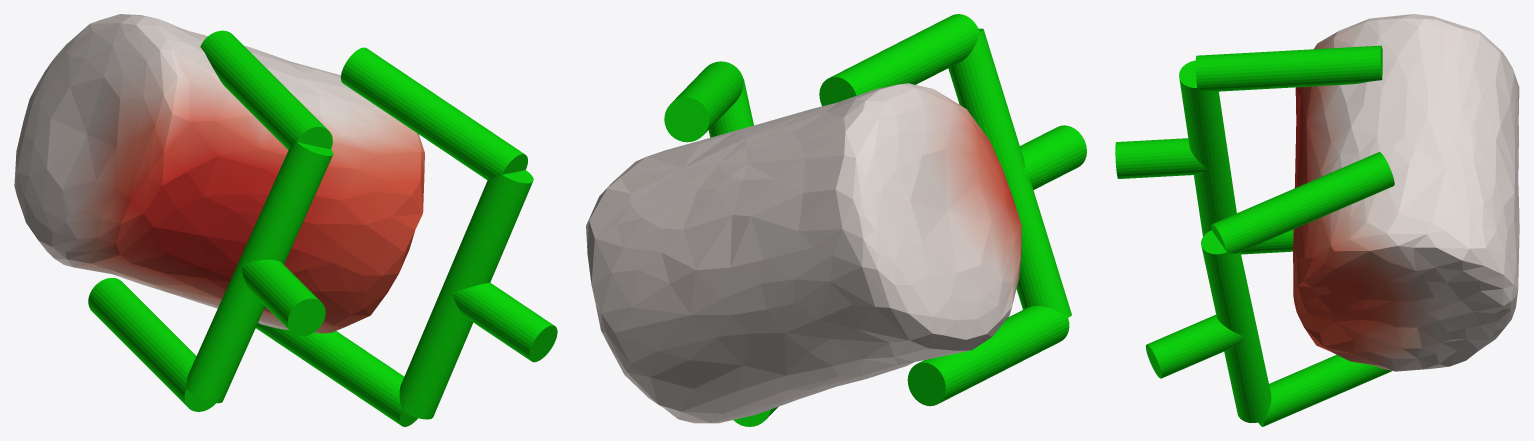
File: round_000_trial_000.obj
The picture shows the model from 3 angles, left to right: view 1: azimuth 30°, elevation 25°; view 2: azimuth 150°, elevation 25°; view 3: azimuth 270°, elevation 25°; orthographic projection. The views are drawn at different scales.
Parts seen in each view (by area): view 1: geometry_0, geometry_2, geometry_1; view 2: geometry_0, geometry_1, geometry_2; view 3: geometry_0, geometry_2, geometry_1.
Boxes of the visible parts, x1,y1,x2,y2 form: geometry_0: (14,14,424,333); geometry_2: (256,47,557,426); geometry_1: (88,30,333,411); geometry_0: (586,83,1021,423); geometry_1: (819,14,1086,406); geometry_2: (664,61,778,426); geometry_0: (1293,14,1519,371); geometry_2: (1145,152,1394,426); geometry_1: (1115,45,1382,254).
Size of the model in its own units: 0.1029 by 0.0992 by 0.1088.
